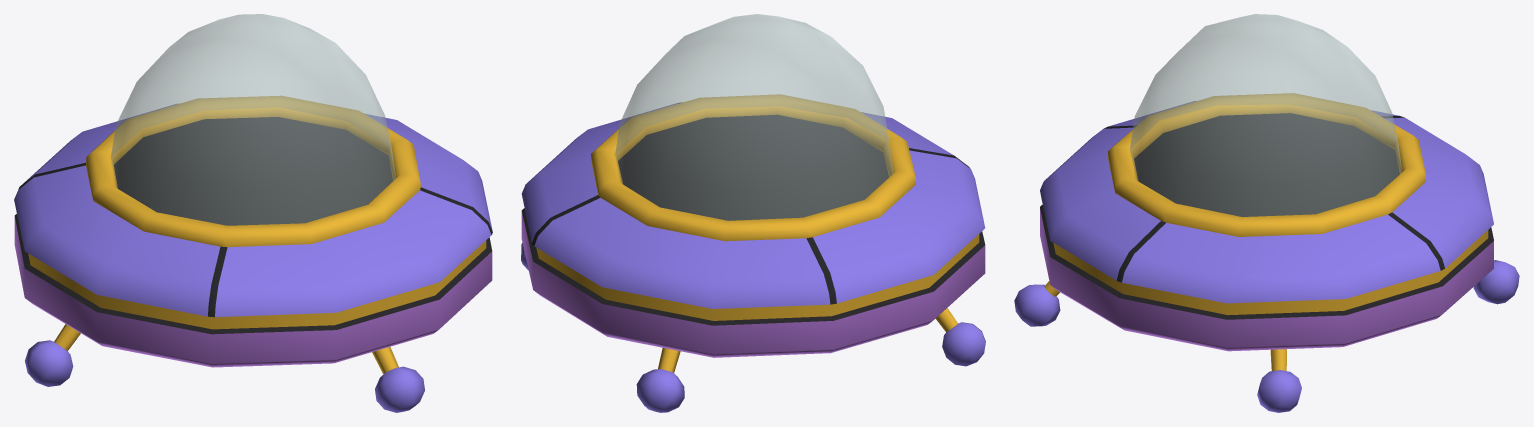
File: Flying_Saucer.fbx
The picture shows the model from 3 angles, left to right: view 1: azimuth 30°, elevation 25°; view 2: azimuth 150°, elevation 25°; view 3: azimuth 270°, elevation 25°; orthographic projection. The views are drawn at different scales.
Visible parts, largest first — view 1: Base, Glass, Legs; view 2: Base, Glass, Legs; view 3: Base, Glass, Legs.
Part boxes in pixels (bbox=[...]): Base: bbox=[14, 96, 492, 367]; Glass: bbox=[111, 14, 395, 225]; Legs: bbox=[25, 324, 424, 412]; Base: bbox=[521, 94, 985, 357]; Glass: bbox=[615, 14, 893, 220]; Legs: bbox=[521, 243, 985, 412]; Base: bbox=[1040, 93, 1493, 351]; Glass: bbox=[1130, 14, 1401, 216]; Legs: bbox=[1014, 260, 1519, 412].
Size of the model in its own units: 7.42 by 4.64 by 7.38.
